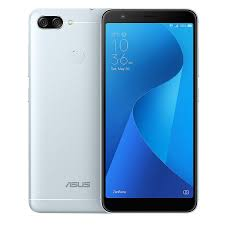asus: (99, 5, 200, 215), (24, 4, 104, 216)
